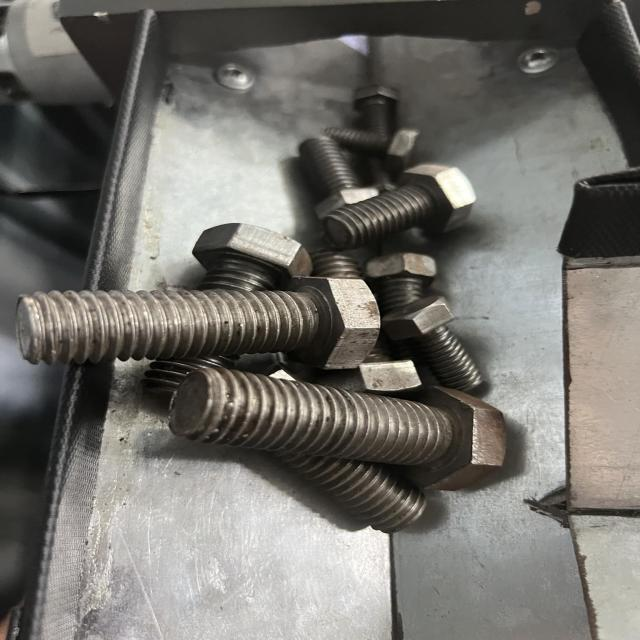bolt: (14, 274, 385, 372)
